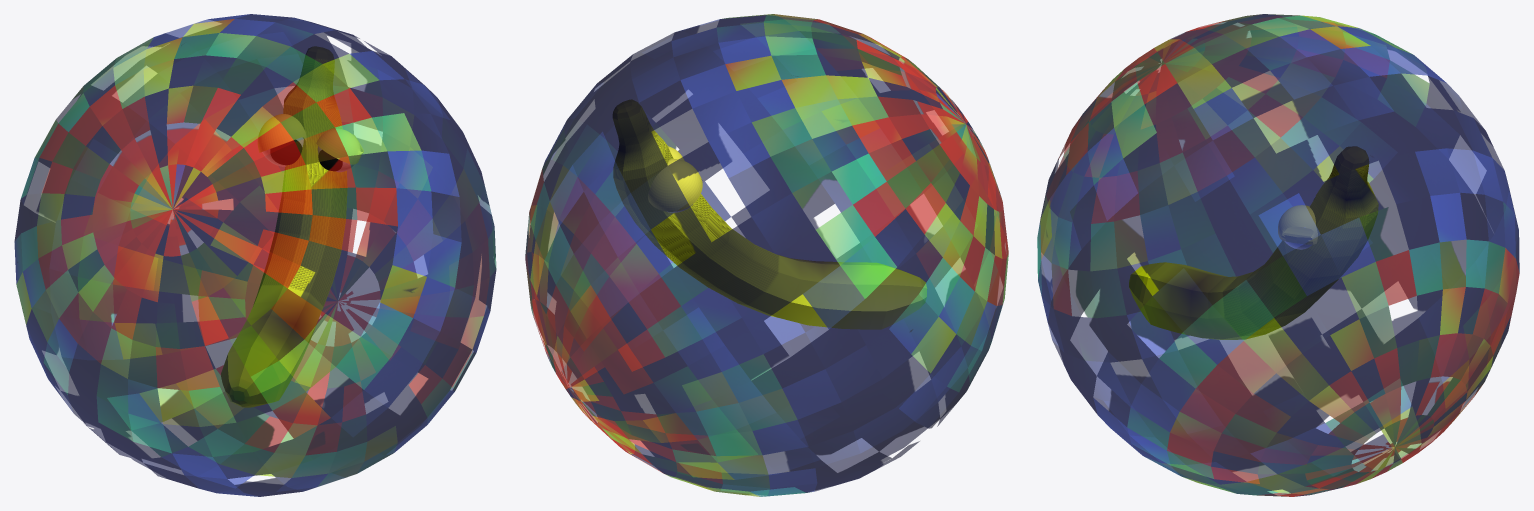
File: banana.glb
3 renders of one model, left to right at view 1: azimuth 30°, elevation 25°; view 2: azimuth 150°, elevation 25°; view 3: azimuth 270°, elevation 25°, orthographic.
Visible parts, largest first — view 1: Sphere.010, Cube; view 2: Sphere.010, Cube; view 3: Sphere.010, Cube.
Boxes of the visible parts, <box> form: Sphere.010: <box>14,14,496,496</box>; Cube: <box>221,46,363,407</box>; Sphere.010: <box>525,14,1008,496</box>; Cube: <box>613,99,926,329</box>; Sphere.010: <box>1037,14,1519,496</box>; Cube: <box>1129,146,1378,339</box>.
Bounding box in the file's own units: 6.76 × 6.78 × 6.75.
Materials: 5 (2 with a texture image).
